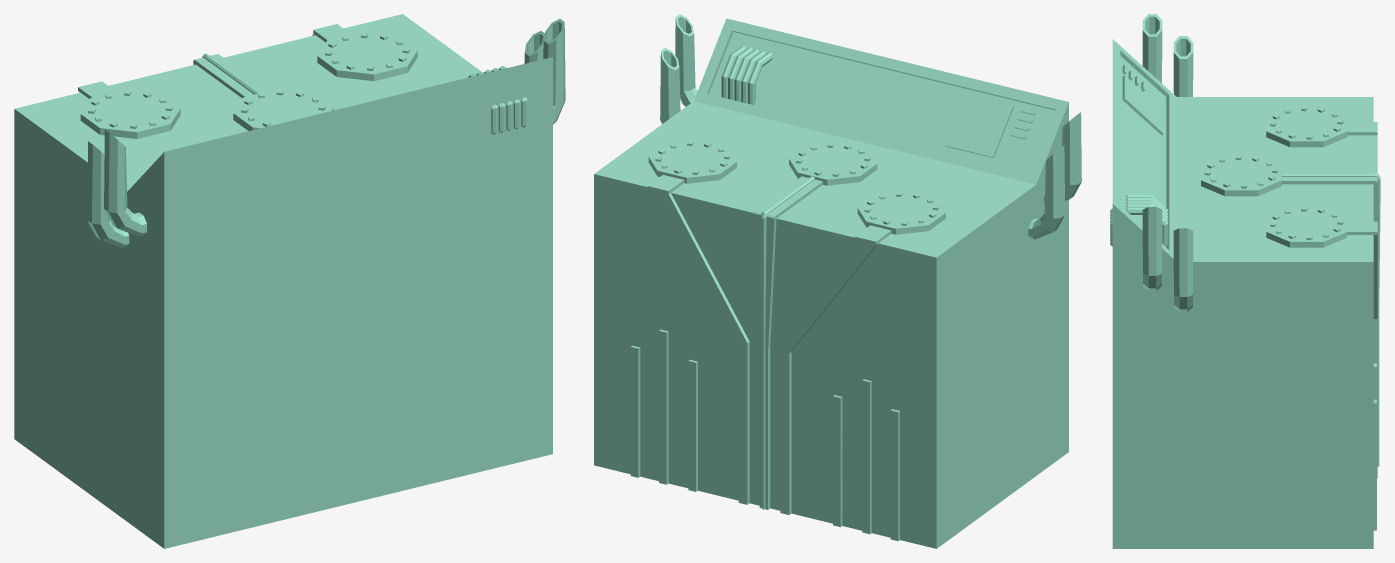
File: PressButtonMachine.fbx
3 renders of one model, left to right at view 1: azimuth 30°, elevation 25°; view 2: azimuth 150°, elevation 25°; view 3: azimuth 270°, elevation 25°, orthographic. The views are drawn at different scales.
Visible parts, largest first — view 1: ButtonMachine.001, ButtonMachine.005, ButtonMachine.004, ButtonMachine.007, ButtonMachine.002; view 2: ButtonMachine.001, ButtonMachine.005, ButtonMachine.008, ButtonMachine.004, ButtonMachine.003, ButtonMachine.002, ButtonMachine.006, ButtonMachine.007; view 3: ButtonMachine.001, ButtonMachine.005, ButtonMachine.004, ButtonMachine.008, ButtonMachine.006, ButtonMachine.003, ButtonMachine.007, ButtonMachine.002.
Boxes of the visible parts, bbox=[...] form: ButtonMachine.001: bbox=[14, 14, 552, 548]; ButtonMachine.005: bbox=[78, 24, 417, 138]; ButtonMachine.004: bbox=[87, 19, 565, 248]; ButtonMachine.007: bbox=[88, 33, 409, 128]; ButtonMachine.002: bbox=[468, 66, 527, 134]; ButtonMachine.001: bbox=[594, 18, 1068, 548]; ButtonMachine.005: bbox=[630, 140, 945, 541]; ButtonMachine.008: bbox=[709, 32, 1054, 172]; ButtonMachine.004: bbox=[660, 14, 1081, 239]; ButtonMachine.003: bbox=[945, 94, 1035, 157]; ButtonMachine.002: bbox=[721, 46, 772, 104]; ButtonMachine.006: bbox=[761, 176, 814, 509]; ButtonMachine.007: bbox=[655, 141, 939, 225]; ButtonMachine.001: bbox=[1112, 39, 1373, 548]; ButtonMachine.005: bbox=[1201, 107, 1377, 530]; ButtonMachine.004: bbox=[1142, 14, 1193, 312]; ButtonMachine.008: bbox=[1120, 56, 1166, 247]; ButtonMachine.006: bbox=[1282, 173, 1380, 466]; ButtonMachine.003: bbox=[1122, 64, 1163, 135]; ButtonMachine.007: bbox=[1204, 106, 1343, 240]; ButtonMachine.002: bbox=[1110, 194, 1168, 246].
Size of the model in its own units: 1.57 by 0.9243 by 1.34.
